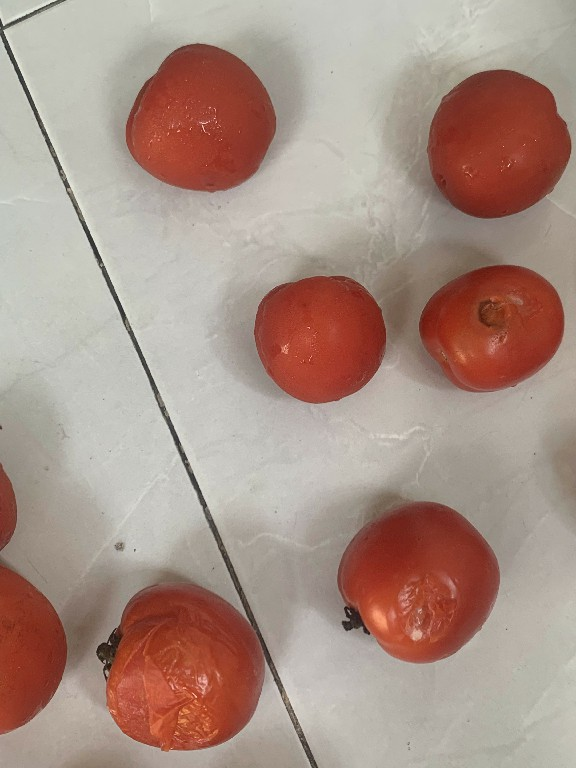NG: (92, 569, 285, 760), (323, 493, 502, 675), (412, 255, 562, 404)
OK: (112, 37, 286, 197), (415, 55, 568, 226), (253, 260, 394, 413)
